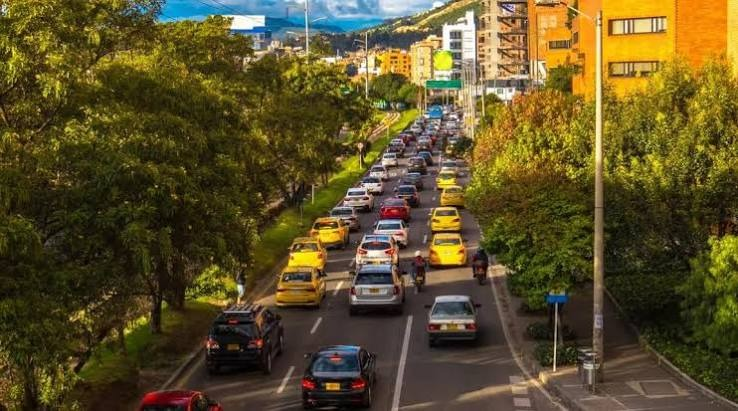car: (14, 24, 585, 396), (129, 118, 507, 402), (205, 309, 281, 373), (298, 344, 372, 409), (211, 307, 281, 350), (424, 294, 482, 345), (424, 295, 481, 345), (278, 243, 326, 302), (276, 251, 325, 304), (348, 264, 402, 311), (349, 263, 400, 311), (424, 212, 470, 264), (133, 388, 220, 411)
